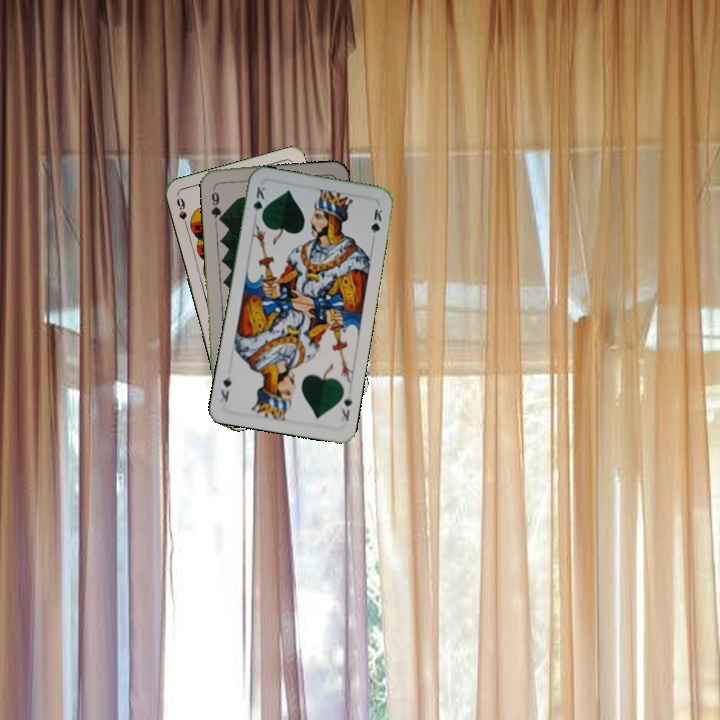G9: (207, 182, 225, 223)
GK: (249, 182, 268, 222), (336, 387, 355, 424)
S9: (172, 193, 191, 233)
